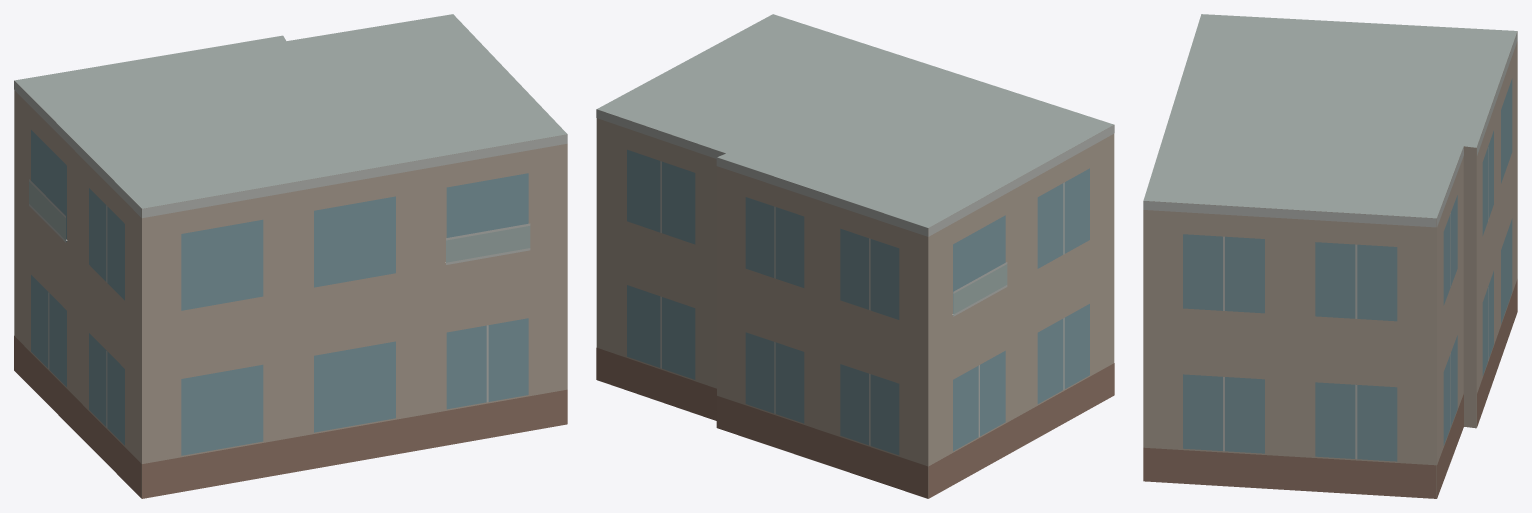
The model's file is survey-upis-32931895.glb.
The picture shows the model from 3 angles, left to right: view 1: azimuth 30°, elevation 25°; view 2: azimuth 150°, elevation 25°; view 3: azimuth 270°, elevation 25°; orthographic projection. The views are drawn at different scales.
Visible parts, largest first — view 1: survey-upis-32931895.tmp; view 2: survey-upis-32931895.tmp; view 3: survey-upis-32931895.tmp.
Part boxes in pixels (x1,y1,x2,y2): survey-upis-32931895.tmp: [14, 14, 567, 498]; survey-upis-32931895.tmp: [596, 14, 1114, 498]; survey-upis-32931895.tmp: [1143, 14, 1517, 498].
Bounding box in the file's own units: 11.73 × 7.5 × 9.08.
